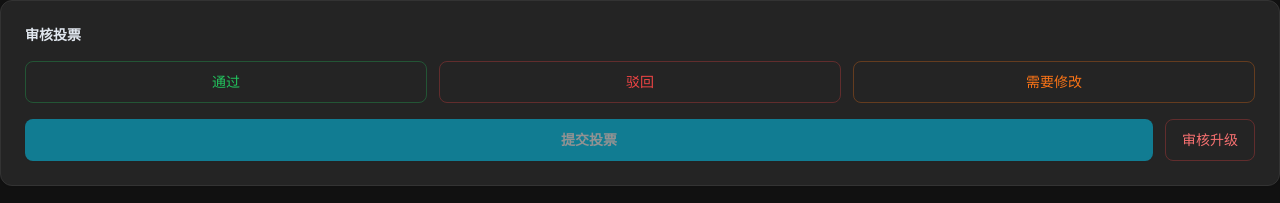
Scenario: VotePanel › 选择"通过"应启用提交按钮
Click the button "通过".
click(226, 82)  # box [25,61,427,103]
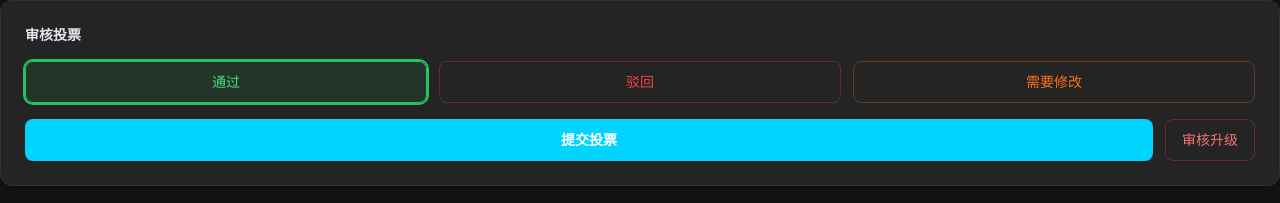
Check: the button "提交投票" is enabled, box [25,119,1153,161]
